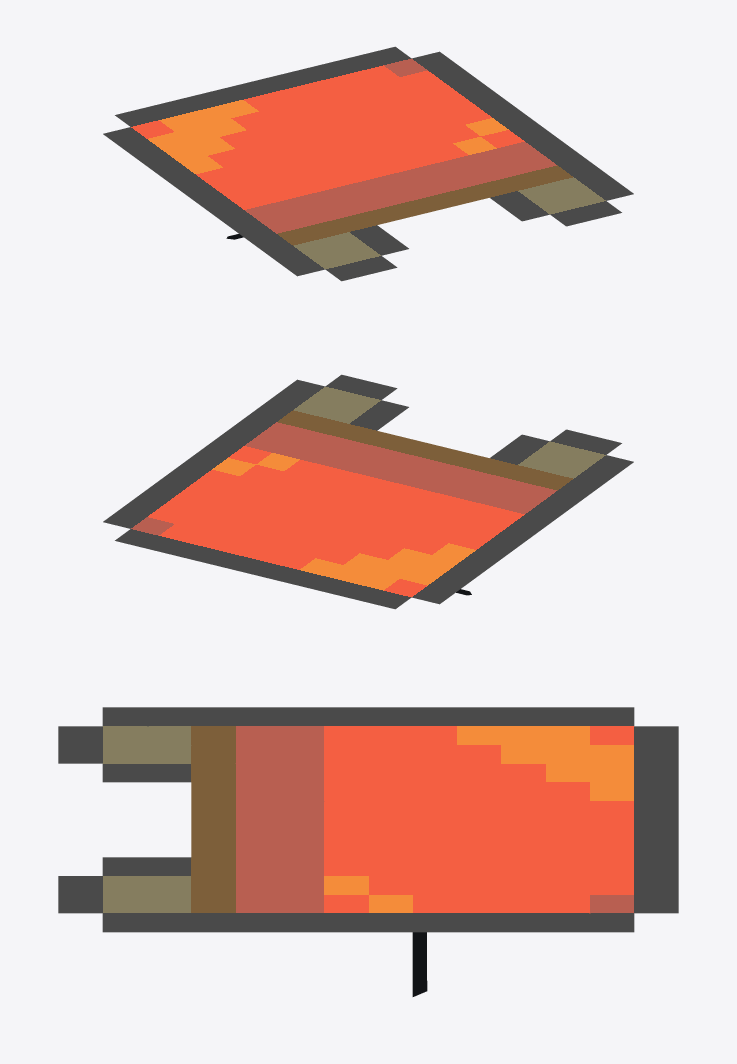
The picture shows the model from 3 angles, top to bottom: view 1: azimuth 30°, elevation 25°; view 2: azimuth 150°, elevation 25°; view 3: azimuth 270°, elevation 25°; orthographic projection. The views are drawn at different scales.
Bounding box in the file's own units: 1 × 0.125 × 1.
Materials: 1 (1 with a texture image).
